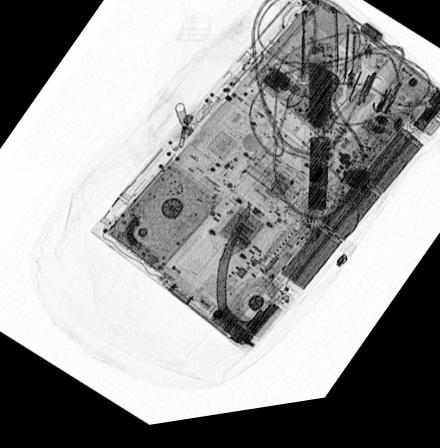Baton: (298, 15, 349, 251)
